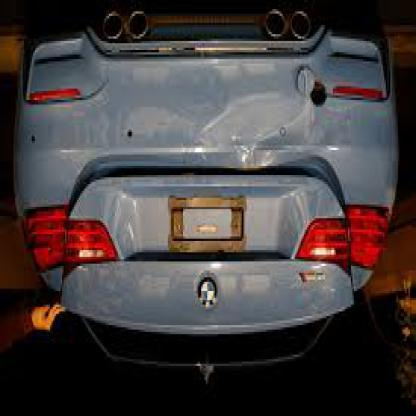dent: (197, 86, 288, 164)
